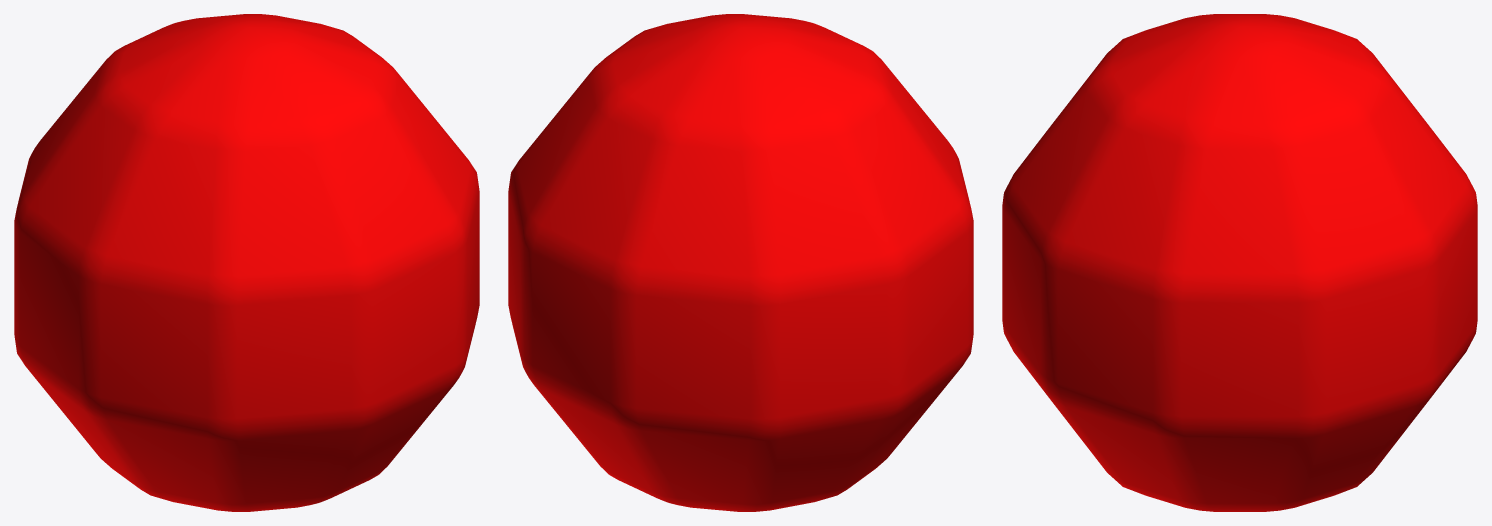
File: 50die.fbx
3 views of the same model, side by side, from view 1: azimuth 30°, elevation 25°; view 2: azimuth 150°, elevation 25°; view 3: azimuth 270°, elevation 25° (orthographic).
Visible parts, largest first — view 1: Sphere; view 2: Sphere; view 3: Sphere.
Part boxes in pixels (left/top/right/bottom): Sphere: left=14, top=14, right=479, bottom=511; Sphere: left=508, top=14, right=973, bottom=511; Sphere: left=1002, top=14, right=1477, bottom=511.
Bounding box in the file's own units: 181 × 206 × 188.
